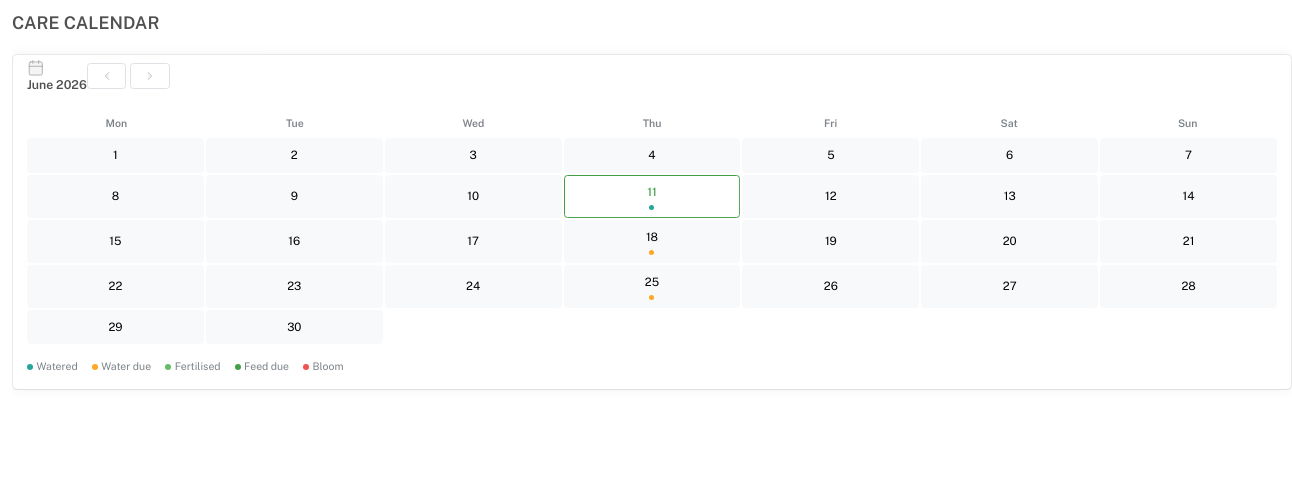
Test: CalendarPage › clicking a day toggles selection and shows the events panel
The image size is (1292, 484).
Click the button "11" at (652, 196), box [564,175,740,218]
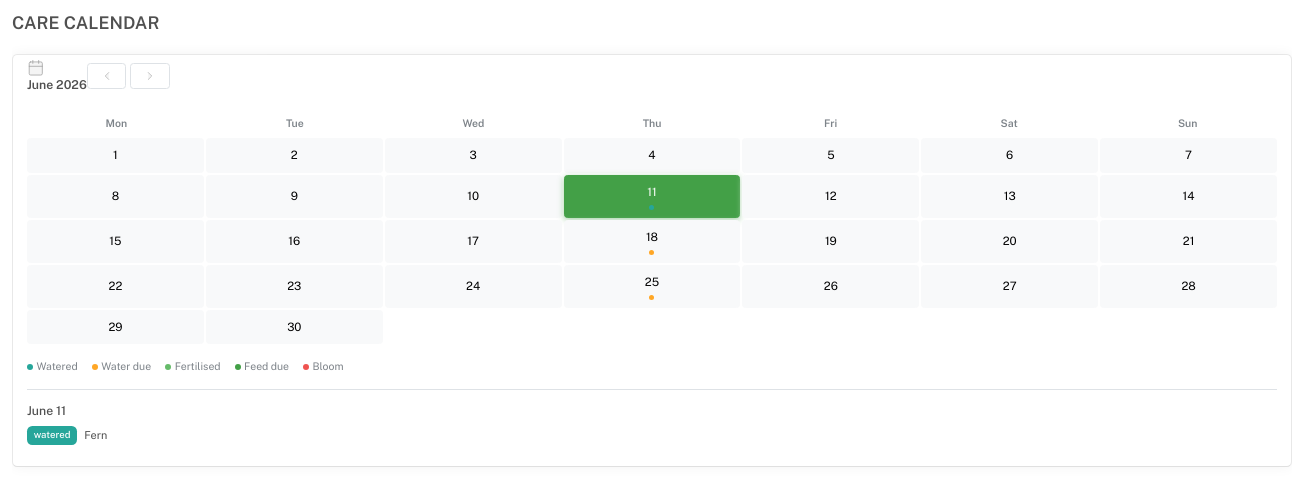
Now the text "Fern" is shown, box [84,428,107,440]
